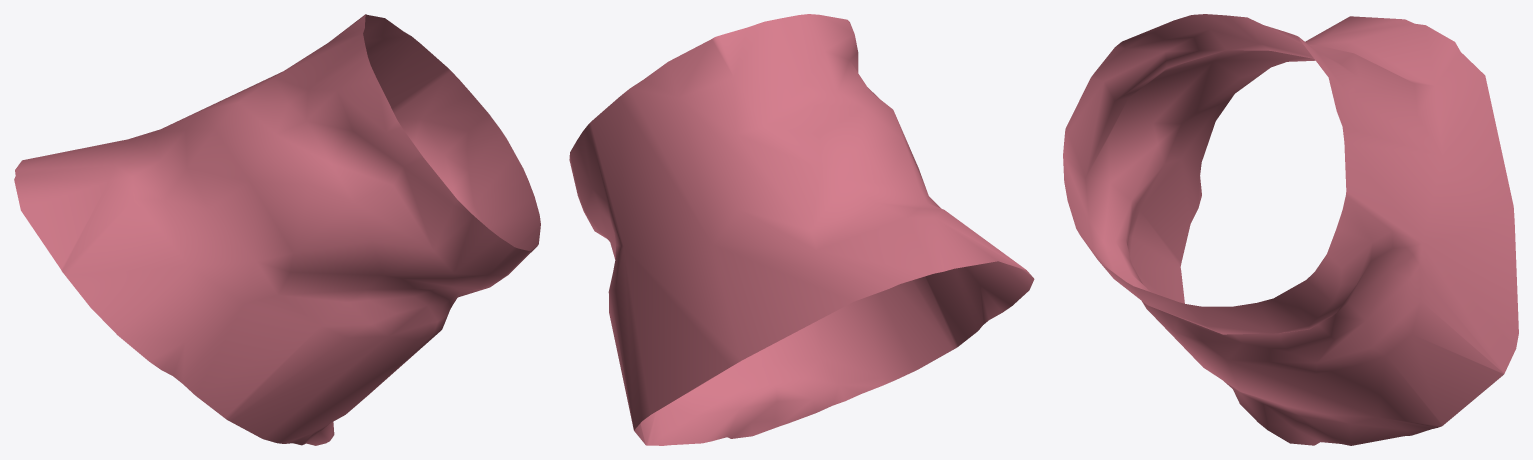
File: Superior_lobar_bronchus_left.glb
3 renders of one model, left to right at view 1: azimuth 30°, elevation 25°; view 2: azimuth 150°, elevation 25°; view 3: azimuth 270°, elevation 25°, orthographic. The views are drawn at different scales.
Parts seen in each view (by area): view 1: Superior_left_lobar_bronchus_grp1.185; view 2: Superior_left_lobar_bronchus_grp1.185; view 3: Superior_left_lobar_bronchus_grp1.185.
Part boxes in pixels (<box>): Superior_left_lobar_bronchus_grp1.185: <box>14,14,540,445</box>; Superior_left_lobar_bronchus_grp1.185: <box>569,14,1034,445</box>; Superior_left_lobar_bronchus_grp1.185: <box>1063,14,1518,445</box>.
Bounding box in the file's own units: 0.0194 × 0.0165 × 0.0159.
